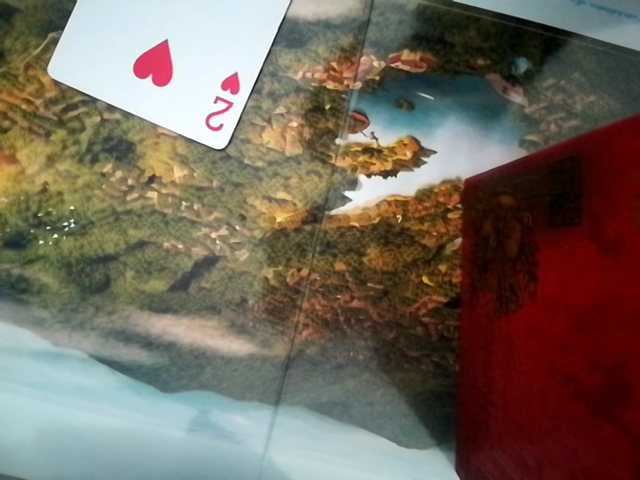hx 2: (38, 0, 322, 150)
